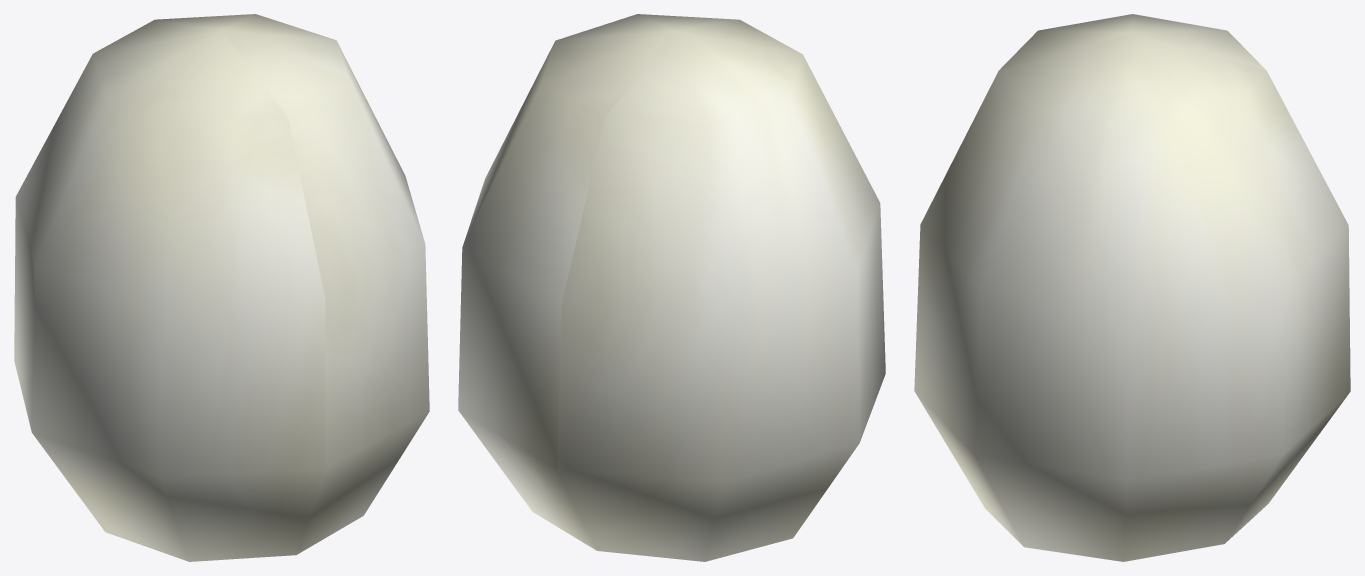
File: SM_PROP_food_egg_01.FBX
The picture shows the model from 3 angles, left to right: view 1: azimuth 30°, elevation 25°; view 2: azimuth 150°, elevation 25°; view 3: azimuth 270°, elevation 25°; orthographic projection.
Parts seen in each view (by area): view 1: SM_PROP_food_egg_01; view 2: SM_PROP_food_egg_01; view 3: SM_PROP_food_egg_01.
Part boxes in pixels (x1,y1,x2,y2): SM_PROP_food_egg_01: (14,14,429,561); SM_PROP_food_egg_01: (458,14,885,561); SM_PROP_food_egg_01: (914,14,1350,561).
Bounding box in the file's own units: 9.87 × 9.87 × 12.37.
